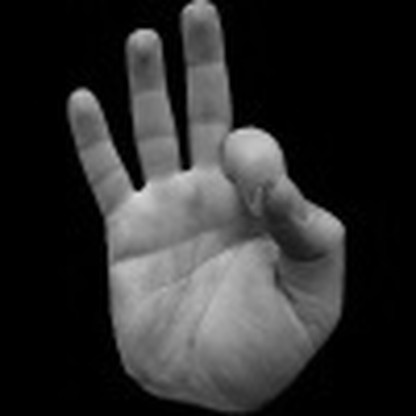f: (59, 1, 353, 404)
